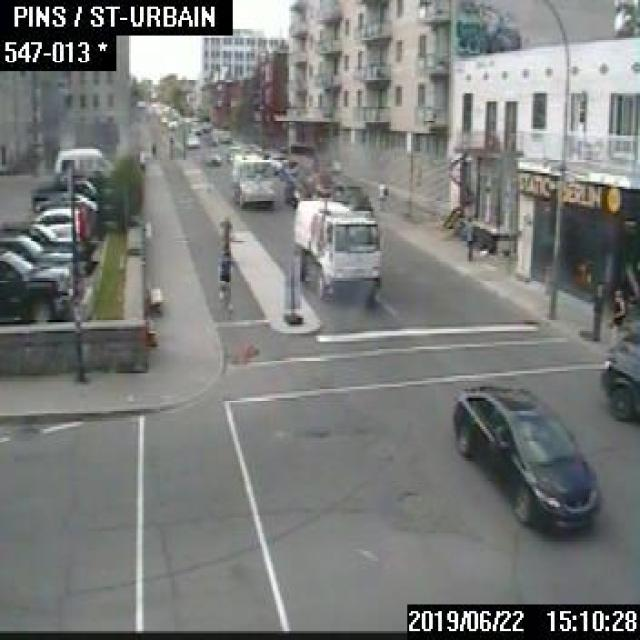cyclist: (216, 245, 233, 308), (217, 213, 231, 250), (166, 134, 174, 154)
pedestrian: (590, 276, 606, 337), (610, 286, 626, 340), (462, 213, 474, 260), (375, 178, 387, 211), (150, 140, 156, 158)
vehicle: (452, 385, 601, 531), (291, 195, 380, 297), (0, 248, 73, 323), (0, 222, 87, 273), (600, 338, 638, 424), (31, 168, 108, 210), (0, 232, 73, 270), (231, 150, 275, 207), (28, 204, 87, 236), (54, 145, 115, 172), (34, 190, 96, 210), (283, 175, 310, 204), (331, 181, 361, 204), (264, 148, 287, 169), (311, 172, 332, 195), (154, 109, 174, 129), (204, 146, 221, 164), (226, 144, 240, 159), (184, 131, 199, 145), (217, 128, 231, 143)
